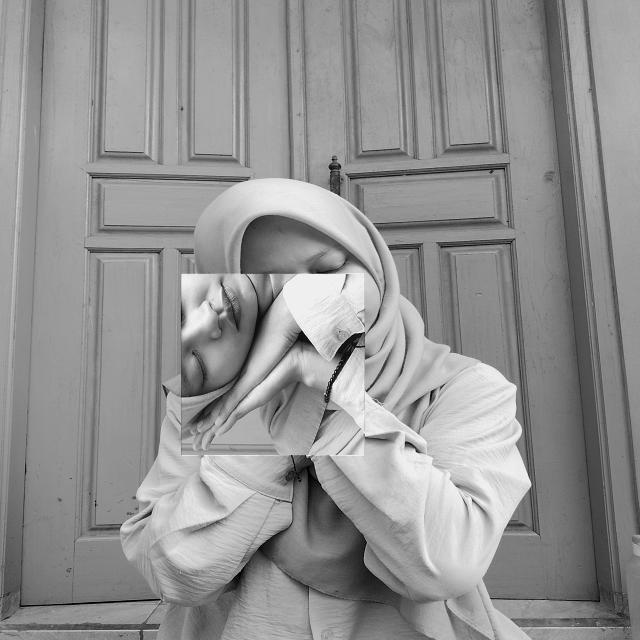tidur: (182, 273, 364, 456)
